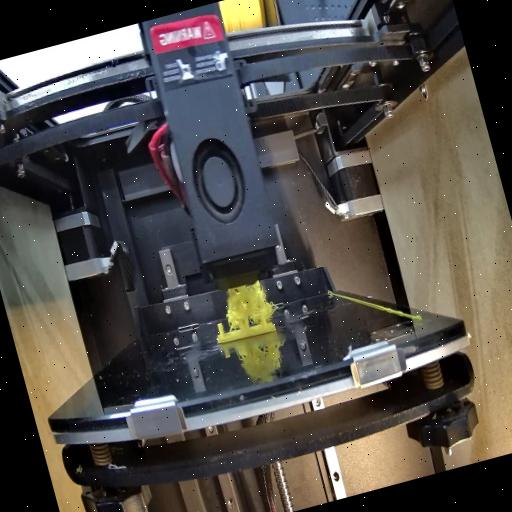spaghetti: (218, 274, 277, 328)
